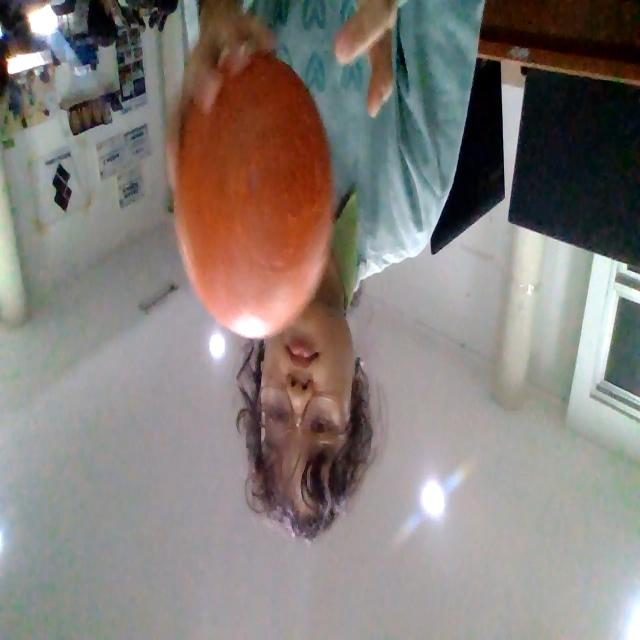ball: (173, 49, 335, 341)
